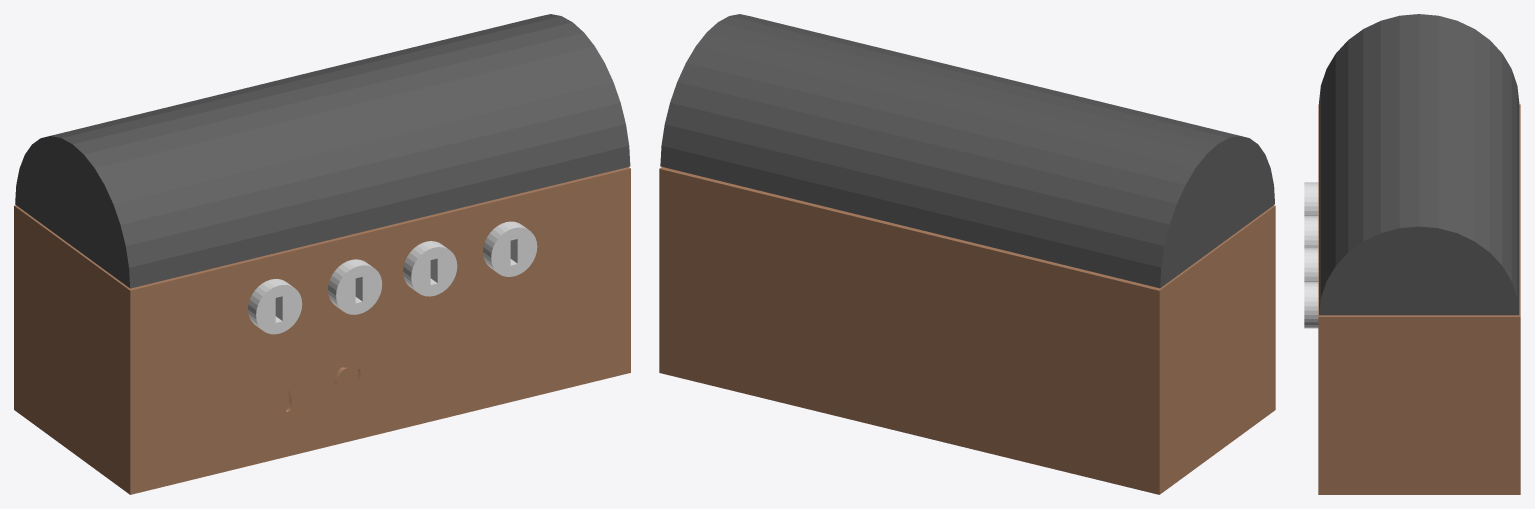
Rendered from toyChest.fbx.
The picture shows the model from 3 angles, left to right: view 1: azimuth 30°, elevation 25°; view 2: azimuth 150°, elevation 25°; view 3: azimuth 270°, elevation 25°; orthographic projection. The views are drawn at different scales.
Visible parts, largest first — view 1: Cube.010, Cylinder, Cylinder.003, Cylinder.002, Cylinder.001, Cylinder.004; view 2: Cube.010, Cylinder; view 3: Cylinder, Cube.010, Cylinder.004, Cylinder.002, Cylinder.003, Cylinder.001.
Boxes of the visible parts, <box> form: Cube.010: <box>14,167,630,494</box>; Cylinder: <box>15,14,630,288</box>; Cylinder.003: <box>403,241,457,296</box>; Cylinder.002: <box>248,279,302,334</box>; Cylinder.001: <box>328,259,382,314</box>; Cylinder.004: <box>483,221,537,276</box>; Cube.010: <box>659,167,1275,494</box>; Cylinder: <box>660,14,1274,288</box>; Cylinder: <box>1319,14,1519,315</box>; Cube.010: <box>1318,104,1520,494</box>; Cylinder.004: <box>1304,282,1318,328</box>; Cylinder.002: <box>1304,182,1318,215</box>; Cylinder.003: <box>1304,248,1318,281</box>; Cylinder.001: <box>1304,216,1318,247</box>.
Size of the model in its own units: 513 by 302 by 221.
